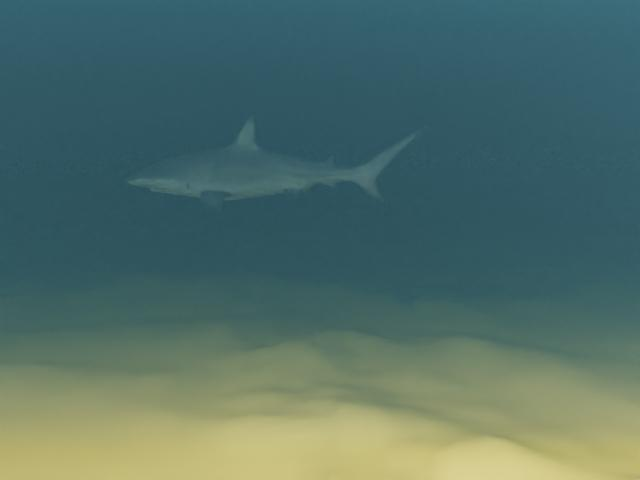Carribean Shark.001: (125, 115, 427, 213)
